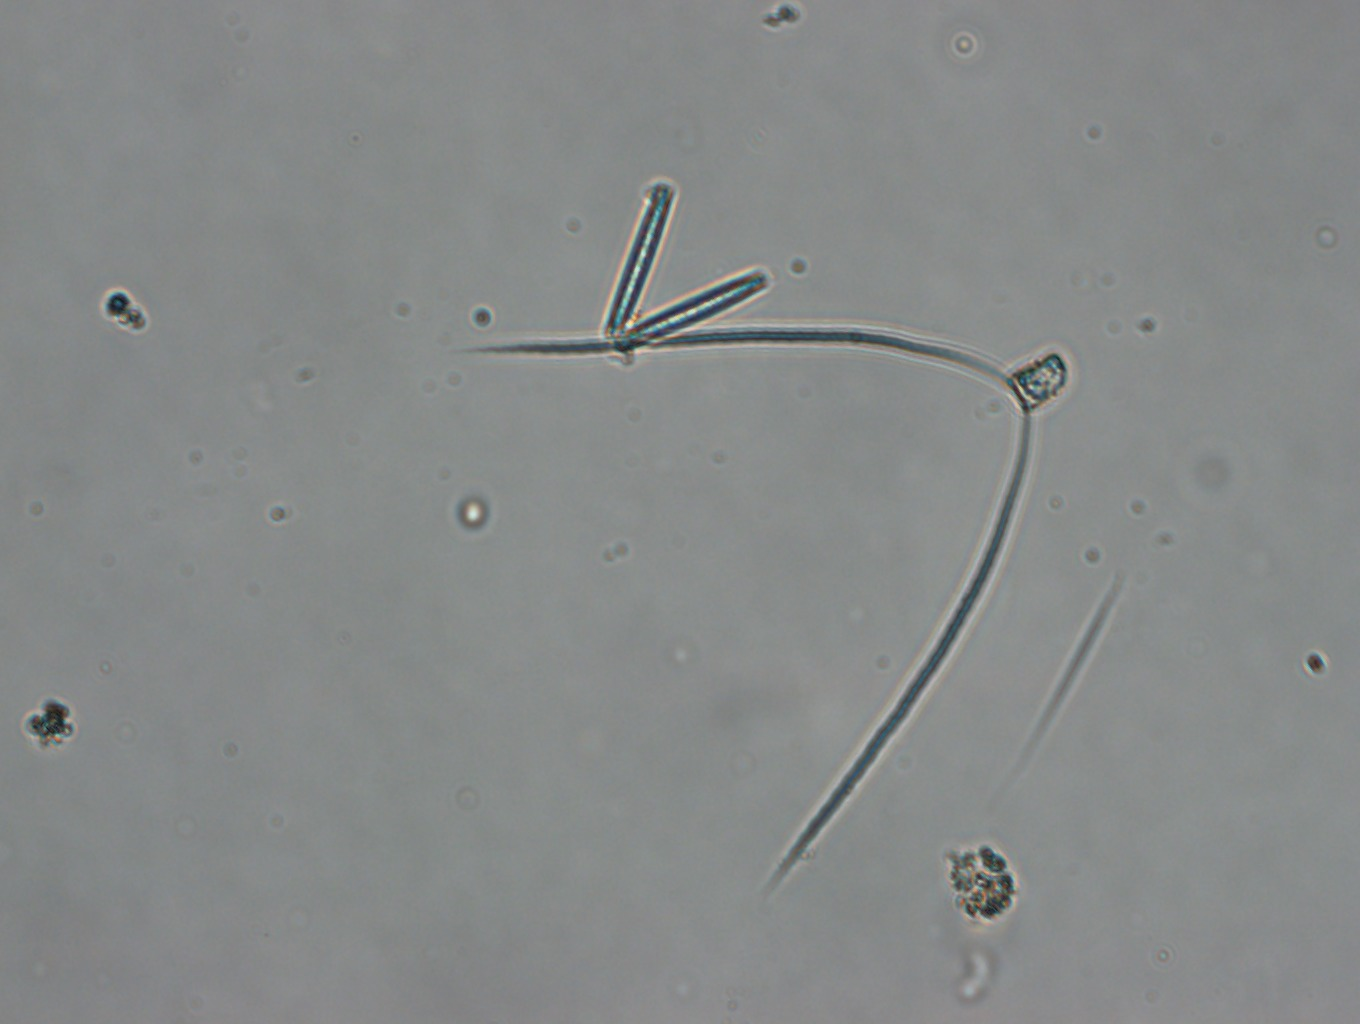chaetoceros: (464, 324, 1071, 913)
thalassionema frauenfeldii: (592, 166, 765, 351)
